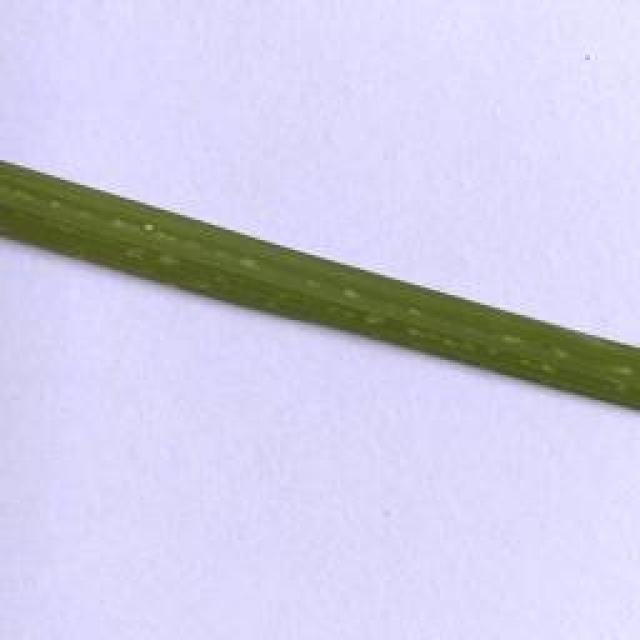Healthy-Plant: (0, 153, 640, 413)
